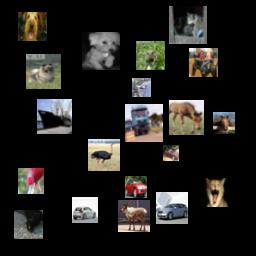airplane: (132, 78, 151, 97)
automobile: (156, 192, 188, 224), (72, 197, 98, 223), (125, 176, 147, 198), (163, 145, 179, 161)
bird: (88, 139, 120, 171), (18, 168, 44, 194)
cat: (169, 6, 207, 44), (14, 210, 43, 239), (201, 178, 230, 207)
deer: (118, 200, 150, 232)
dog: (82, 32, 120, 70), (26, 54, 61, 89), (18, 12, 47, 41)
frog: (136, 41, 165, 70)
ship: (37, 99, 72, 134)
truck: (125, 104, 163, 142)
